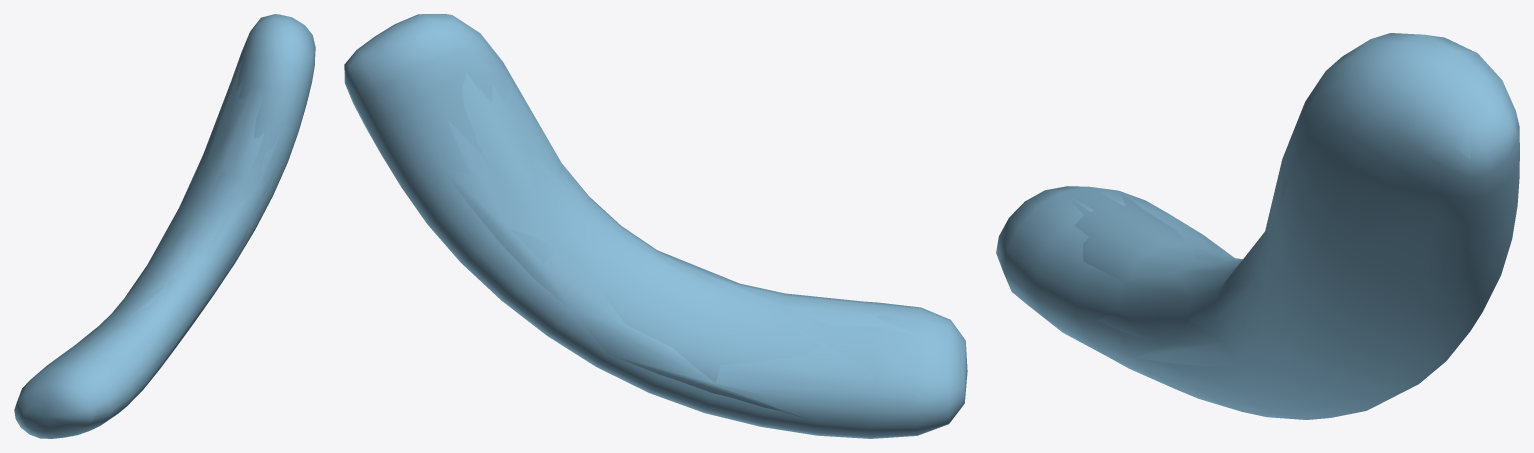
3 views of the same model, side by side, from view 1: azimuth 30°, elevation 25°; view 2: azimuth 150°, elevation 25°; view 3: azimuth 270°, elevation 25° (orthographic). The views are drawn at different scales.
Visible parts, largest first — view 1: CC L3, CC L3 low; view 2: CC L3, CC L3 low; view 3: CC L3, CC L3 low.
Part boxes in pixels (<box>): CC L3: <box>14,14,315,438</box>; CC L3 low: <box>27,14,313,437</box>; CC L3: <box>344,14,967,438</box>; CC L3 low: <box>347,14,958,438</box>; CC L3: <box>996,33,1519,419</box>; CC L3 low: <box>998,34,1517,403</box>.
Bounding box in the file's own units: 8.16 × 6.05 × 4.9.
